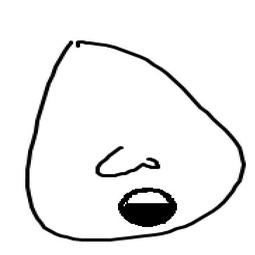nose: (77, 142, 166, 178)
open_mouth: (113, 185, 179, 231)
